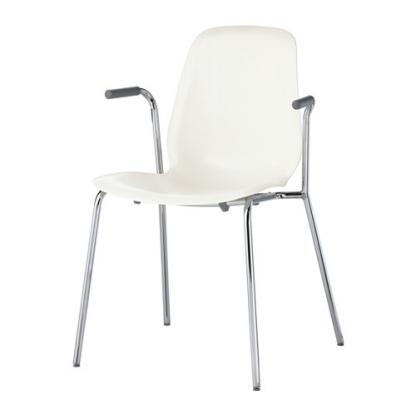Chair: (70, 23, 348, 394)
